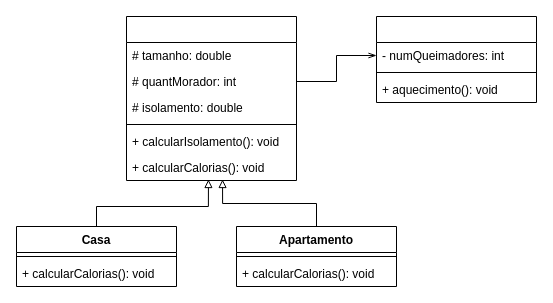
The diagram is 553 pixels wide and 303 high, and some of its shapes have lost their labels. The shapes that lost their labels are listed below. From the top down, each one's box as (x1, y1, x2, y2) in pixels, then its label:
(376, 16, 536, 102): Aquecedor
(126, 16, 296, 180): Moradia
